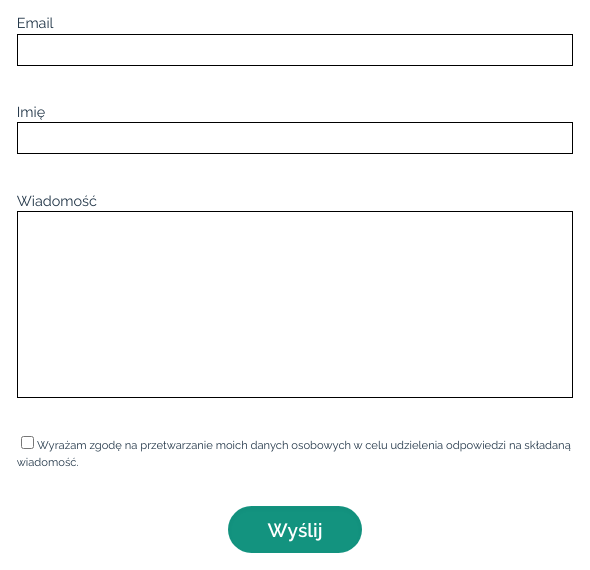
it: Contact › Should display input error messages
The width and height of the screenshot is (590, 570).
Step 1. Type "testexample.com" into the field with test id "contact-form_email" → (295, 50), box x1=17 y1=34 x2=573 y2=66
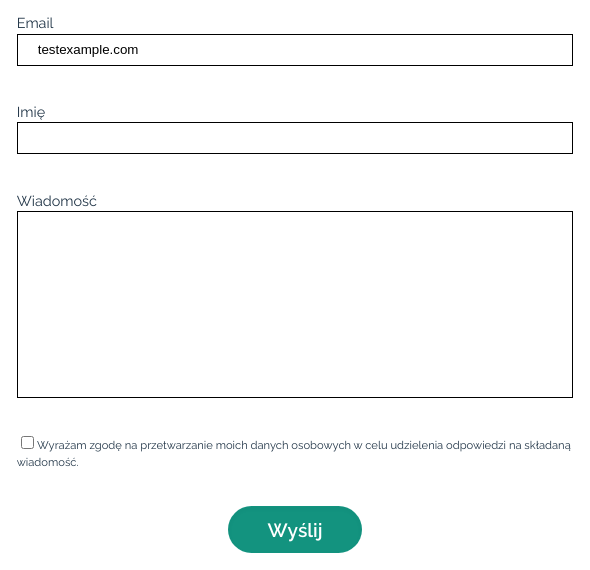
Step 2. Type "@John" into the field with test id "contact-form_name" → (295, 138), box x1=17 y1=122 x2=573 y2=154
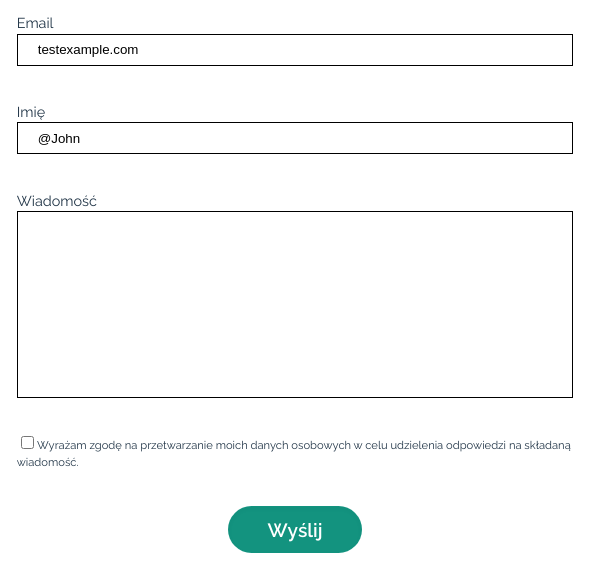
Step 3. Submit the form
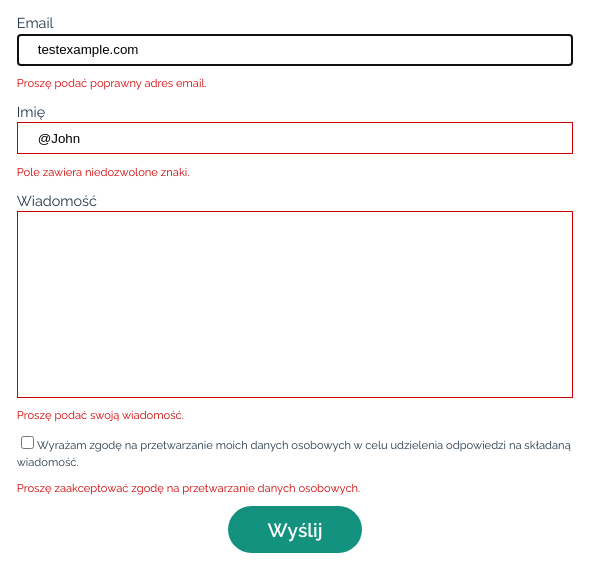
Now the text "Proszę podać poprawny adres email." is shown, box x1=17 y1=75 x2=207 y2=92
Now the text "Pole zawiera niedozwolone znaki." is shown, box x1=17 y1=164 x2=189 y2=180
Now the text "Proszę podać swoją wiadomość." is shown, box x1=17 y1=407 x2=184 y2=424
